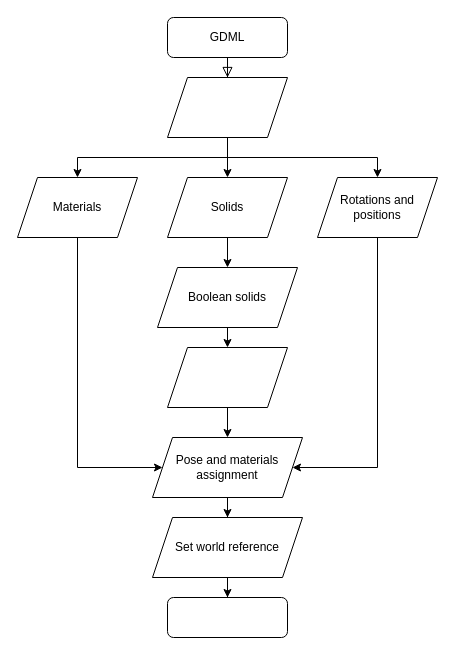
Image size: 455x655. Some labels were removed from this diagram. Here are the shapes that lost their labels. From the top down, the centre of each, then its label:
the point at 227,107: Parsing
the point at 227,377: Hierarchy
the point at 227,617: Unity
